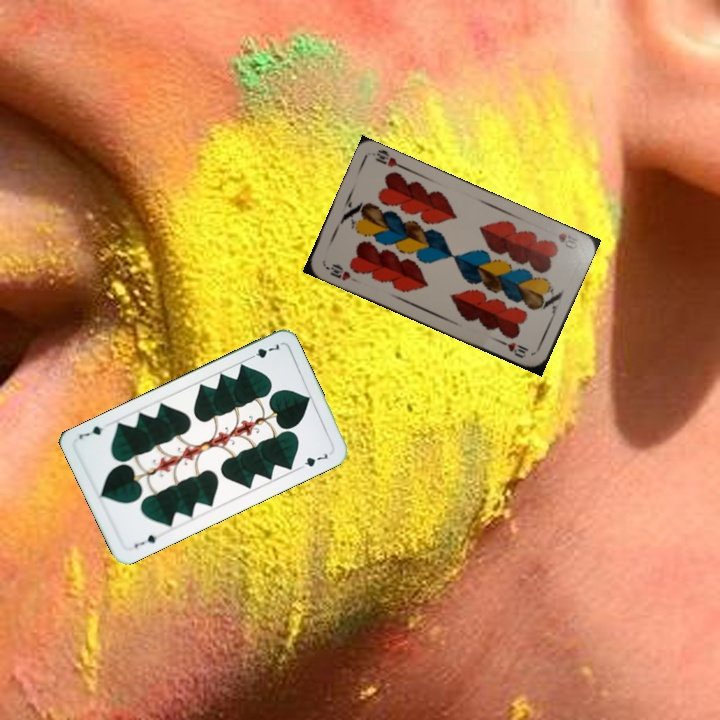G7: (244, 340, 283, 362), (130, 531, 164, 553)
H10: (321, 260, 353, 283), (554, 229, 581, 252)
